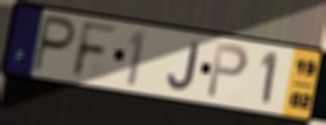1: (126, 29, 147, 87), (259, 50, 279, 108)
F: (69, 19, 121, 82)
J: (166, 39, 202, 92)
P: (30, 12, 77, 76), (204, 41, 251, 102)
